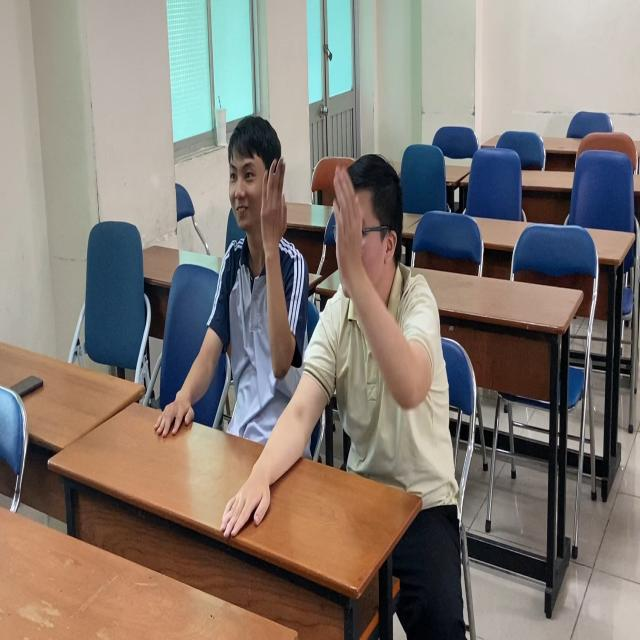raise_hand: (318, 149, 454, 485), (187, 119, 309, 440)
